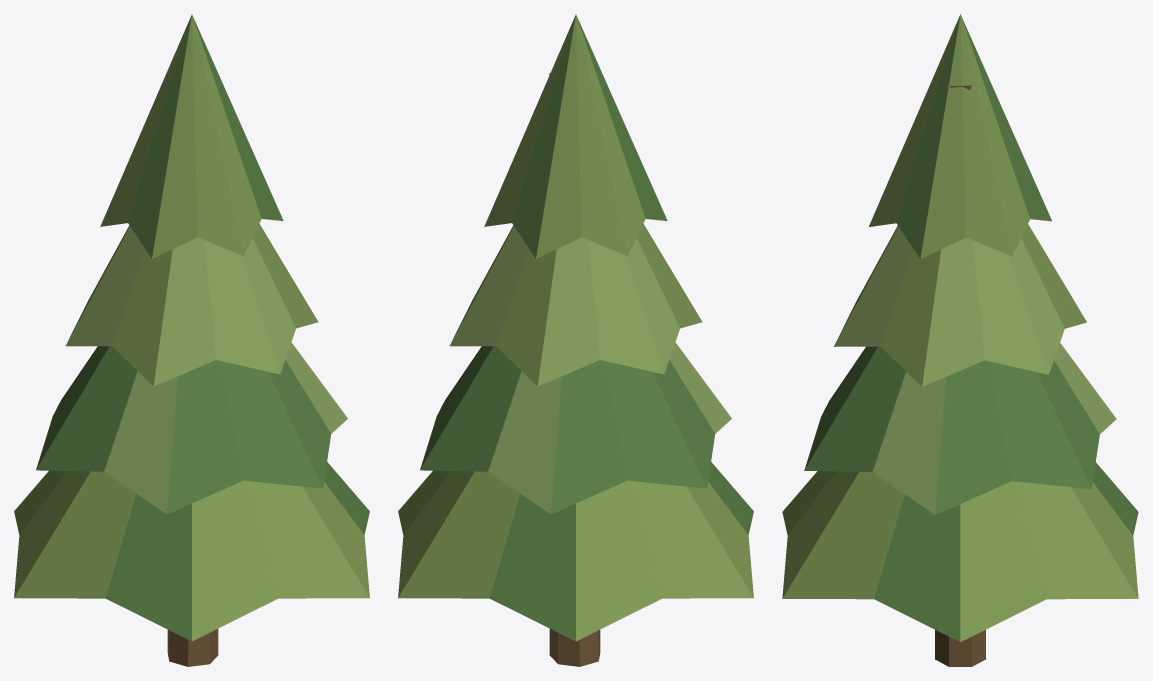
File: pine.glb
3 renders of one model, left to right at view 1: azimuth 30°, elevation 25°; view 2: azimuth 150°, elevation 25°; view 3: azimuth 270°, elevation 25°, orthographic.
Visible parts, largest first — view 1: pine__Pine_olive, pine__Pine_forest, pine__Pine_light, pine__Pine_bark; view 2: pine__Pine_olive, pine__Pine_forest, pine__Pine_light, pine__Pine_bark; view 3: pine__Pine_olive, pine__Pine_forest, pine__Pine_light, pine__Pine_bark.
Part boxes in pixels (bbox=[...]): pine__Pine_olive: bbox=[14, 14, 369, 641]; pine__Pine_forest: bbox=[36, 342, 347, 514]; pine__Pine_light: bbox=[66, 223, 318, 386]; pine__Pine_bark: bbox=[167, 629, 218, 666]; pine__Pine_olive: bbox=[398, 14, 753, 641]; pine__Pine_forest: bbox=[420, 342, 731, 514]; pine__Pine_light: bbox=[450, 223, 702, 386]; pine__Pine_bark: bbox=[549, 73, 600, 666]; pine__Pine_olive: bbox=[782, 14, 1138, 641]; pine__Pine_forest: bbox=[804, 343, 1116, 514]; pine__Pine_light: bbox=[834, 224, 1086, 386]; pine__Pine_bark: bbox=[935, 85, 985, 666].
Bounding box in the file's own units: 2.5 × 4.31 × 2.17.
